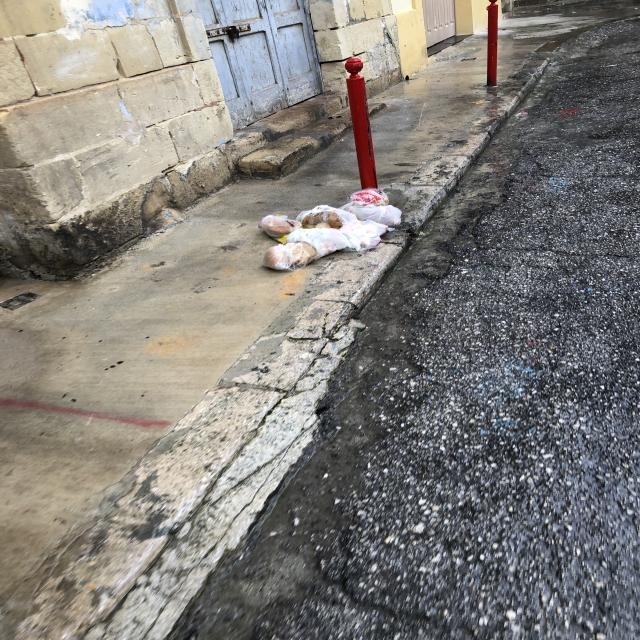Organic Waste -White Bag-: (286, 229, 353, 256), (340, 201, 404, 229), (339, 220, 393, 253), (297, 206, 359, 227)
Other: (264, 242, 319, 272), (261, 215, 307, 243), (302, 213, 344, 231), (350, 189, 392, 207)
